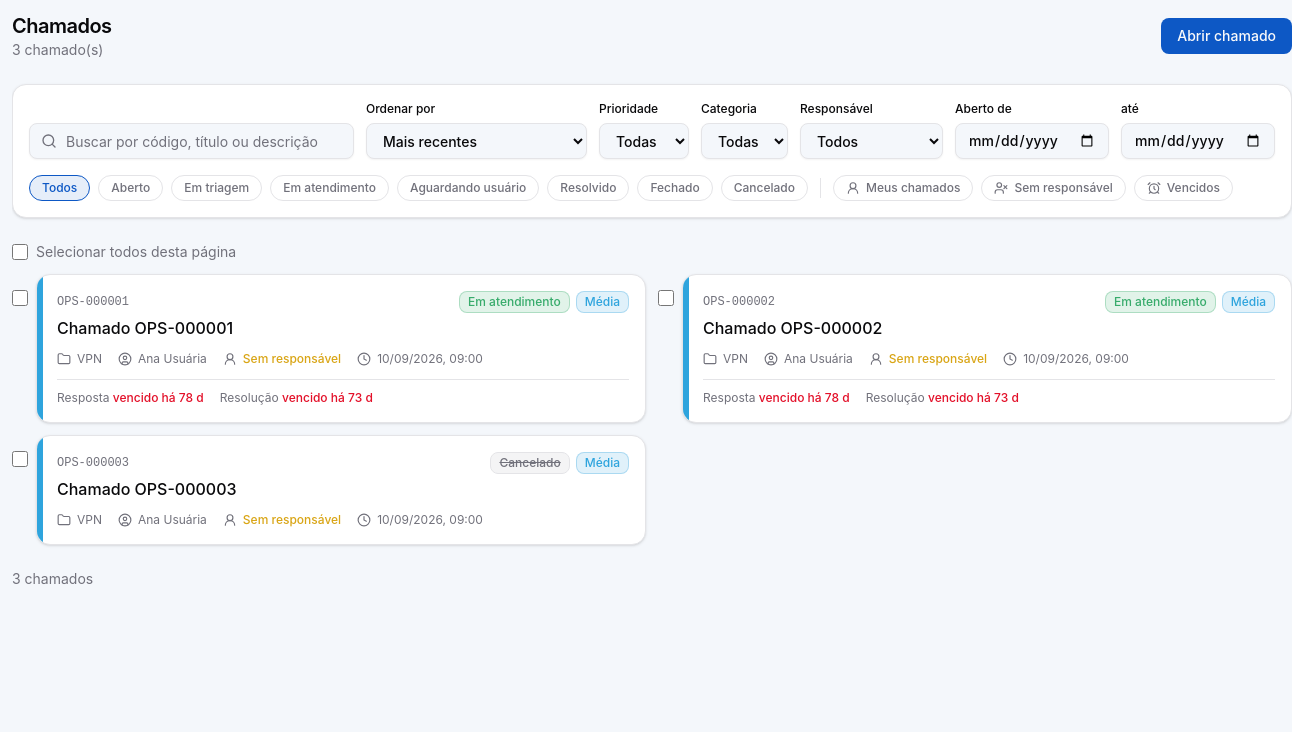
Test: mudança de status em lote › mudar de filtro descarta a seleção
Click the checkbox named "Selecionar OPS-000002": (666, 298) top-left (658, 290), bottom-right (674, 306)
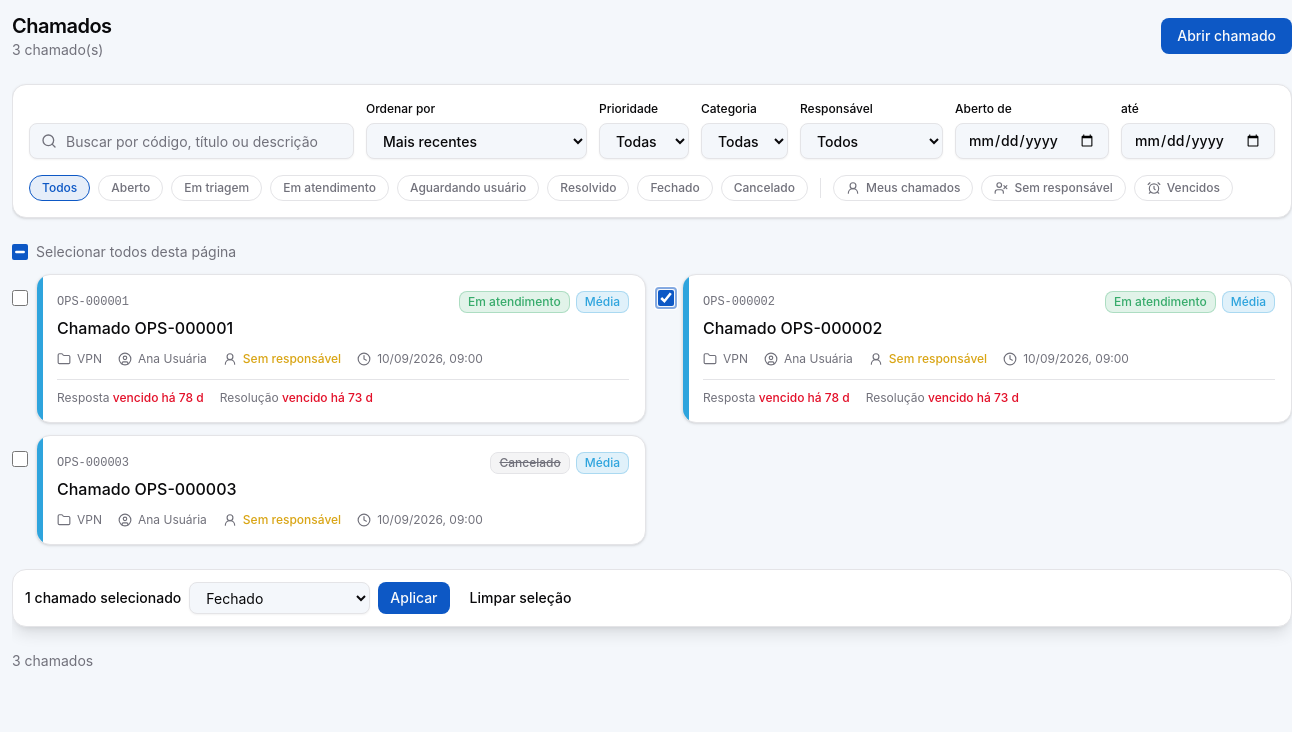
Result: the text "1 chamado selecionado" is shown at top-left (25, 588), bottom-right (181, 608)
Click the button "Em triagem": (217, 188) top-left (171, 175), bottom-right (262, 201)
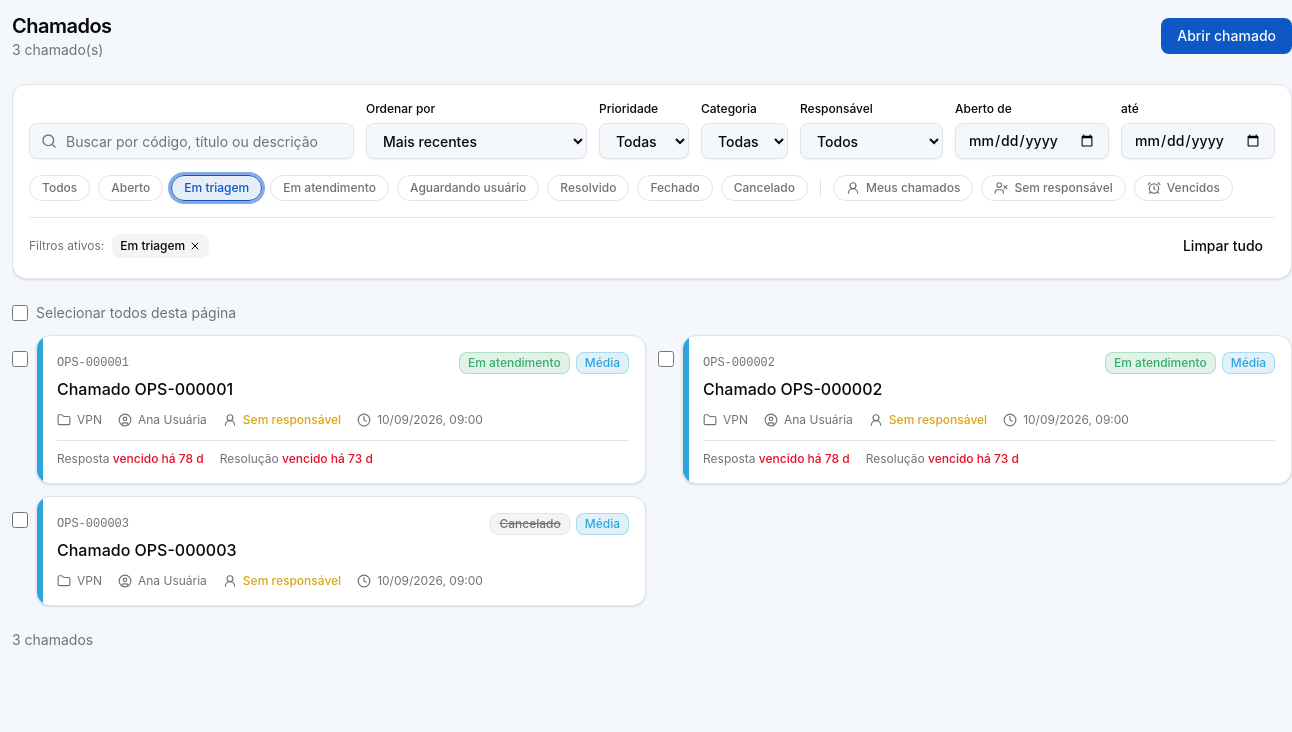
Result: the checkbox named "Selecionar OPS-000002" is not checked at top-left (658, 351), bottom-right (674, 367)
Result: the text "selecionado" is gone
